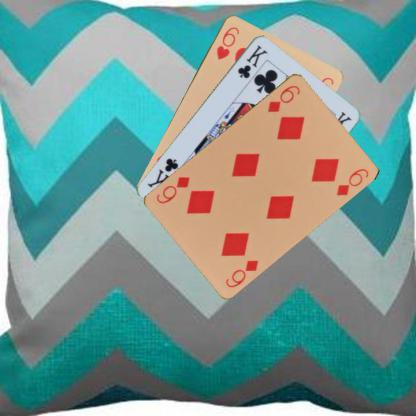6d: (223, 256, 260, 290), (265, 82, 302, 113)
6h: (213, 24, 240, 61)
Kc: (235, 42, 269, 80)
